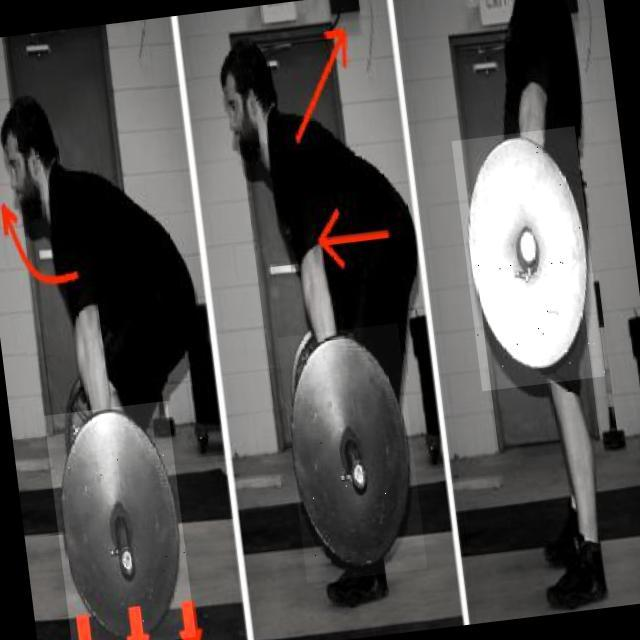barbell: (452, 127, 606, 392), (278, 324, 428, 584), (44, 401, 196, 640)
